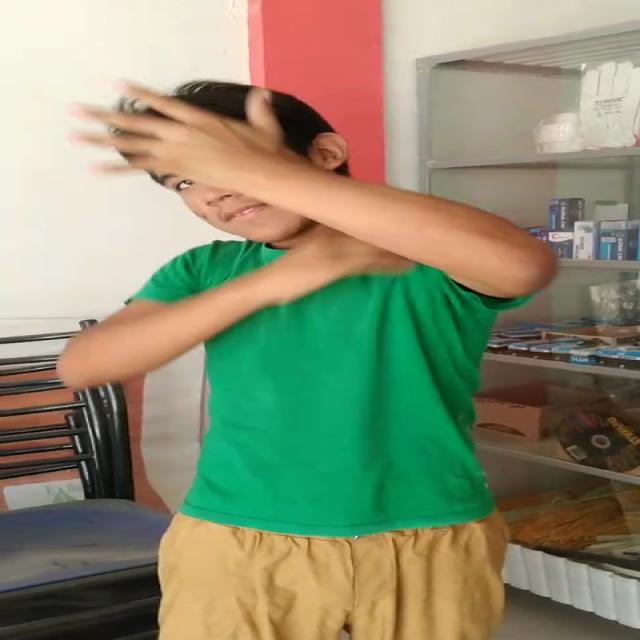7_mano_rostro: (66, 76, 378, 205)
